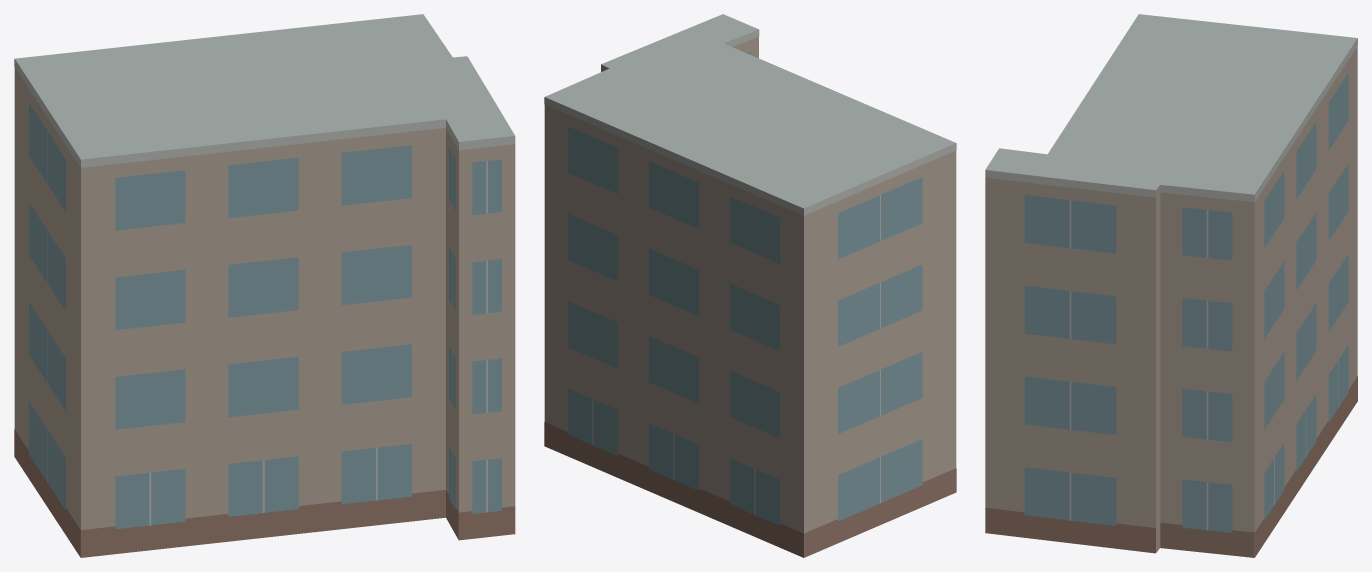
The model's file is survey-upis-32969722.glb.
3 views of the same model, side by side, from view 1: azimuth 30°, elevation 25°; view 2: azimuth 150°, elevation 25°; view 3: azimuth 270°, elevation 25° (orthographic). The views are drawn at different scales.
Visible parts, largest first — view 1: survey-upis-32969722.tmp; view 2: survey-upis-32969722.tmp; view 3: survey-upis-32969722.tmp.
Part boxes in pixels (x1,y1,x2,y2): survey-upis-32969722.tmp: [14, 14, 515, 557]; survey-upis-32969722.tmp: [544, 14, 956, 557]; survey-upis-32969722.tmp: [985, 14, 1357, 557].
Bounding box in the file's own units: 12.5 × 11.7 × 10.89.
